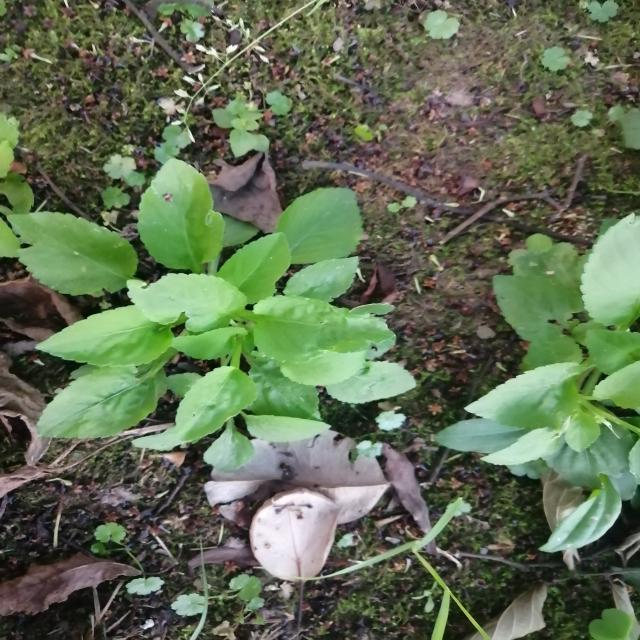Viola: (3, 166, 392, 433)
